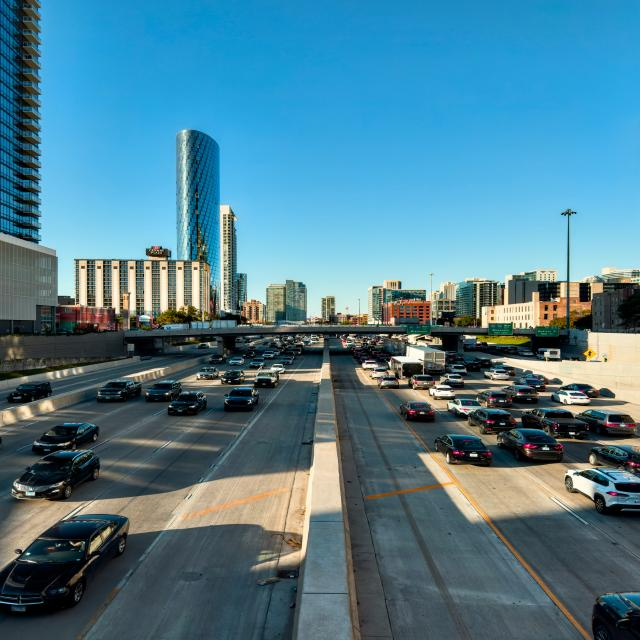Trucks: (407, 346, 445, 374), (388, 356, 423, 378), (383, 338, 406, 356), (537, 348, 561, 361)
